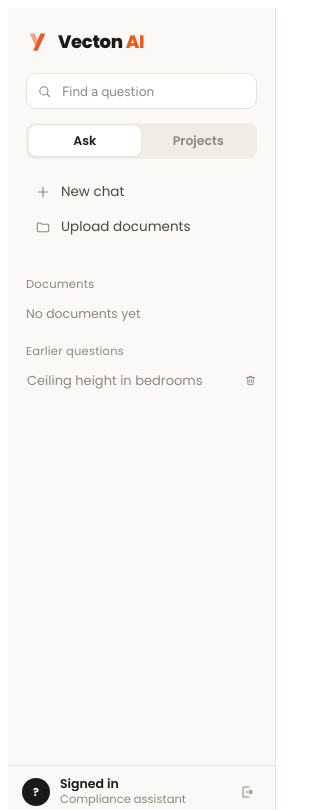
it: Sidebar › goes back home when the open chat is deleted
The width and height of the screenshot is (320, 810).
Click the button named "Delete Ceiling height in bedrooms" at (250, 381), box [239,370,261,392]
(page scrolled)
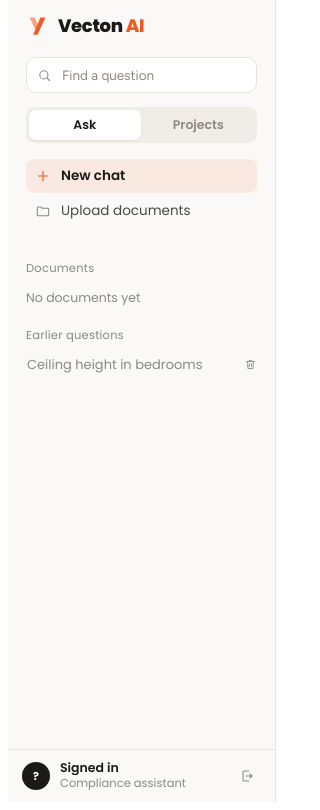
Result: the text "home page" is shown at [8,778,102,801]
